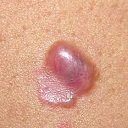Carcinoma: (38, 40, 97, 108)
